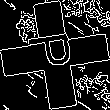P_E: (27, 33, 83, 77)
